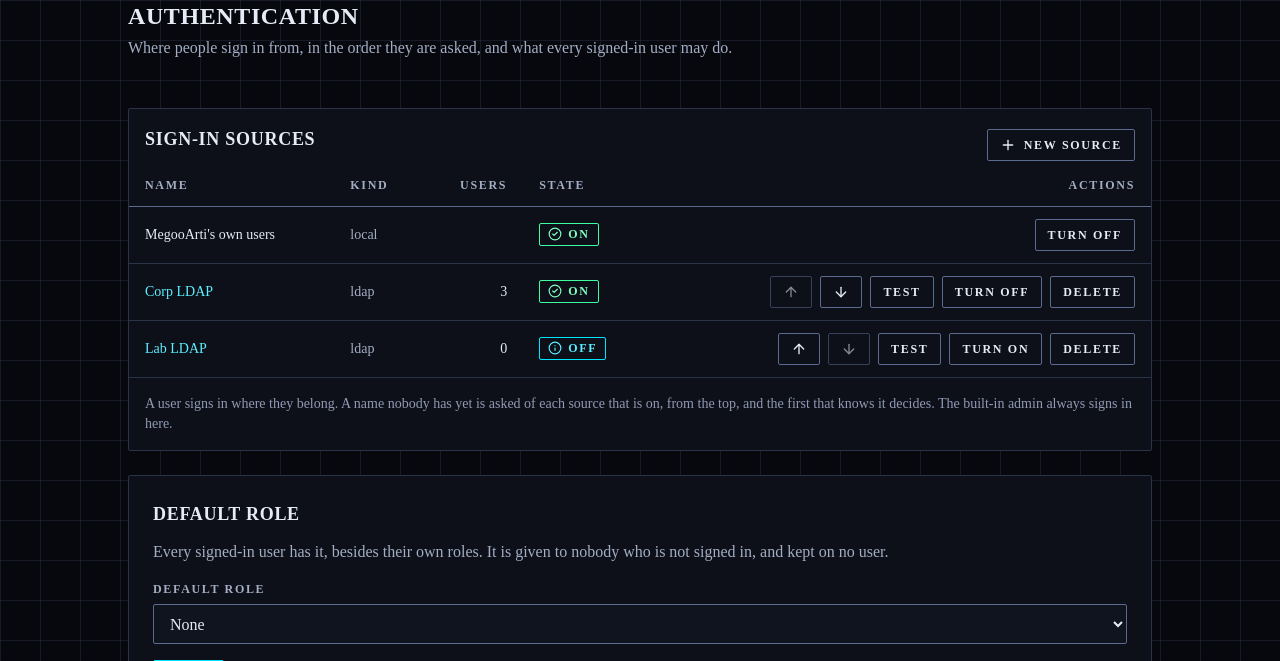
Test: the sign-in sources (SEC-15) › are tested, and what the test found is said
The image size is (1280, 661).
What coordinates should you click on to do the following:
click the button with aria-label "Test Corp LDAP"
I would click on:
 (902, 292)
Its box is 870,276 -> 934,308.
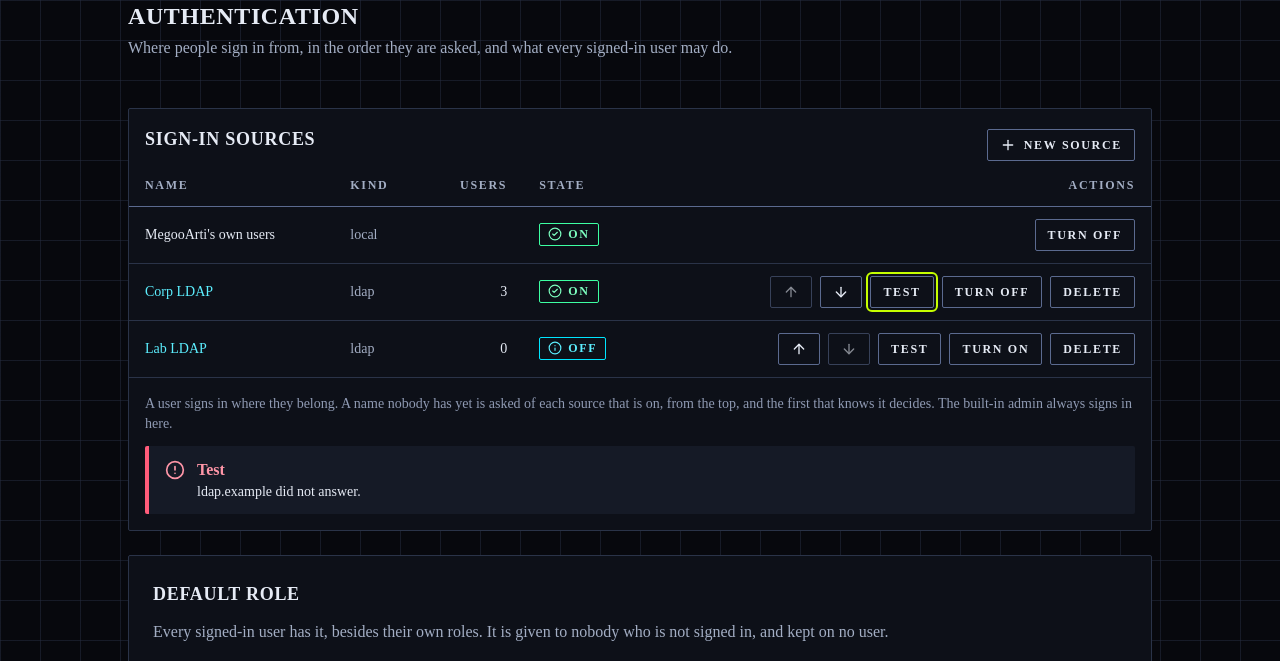
Check: the text "ldap.example did not answer." is shown, box 197,482 -> 361,502
